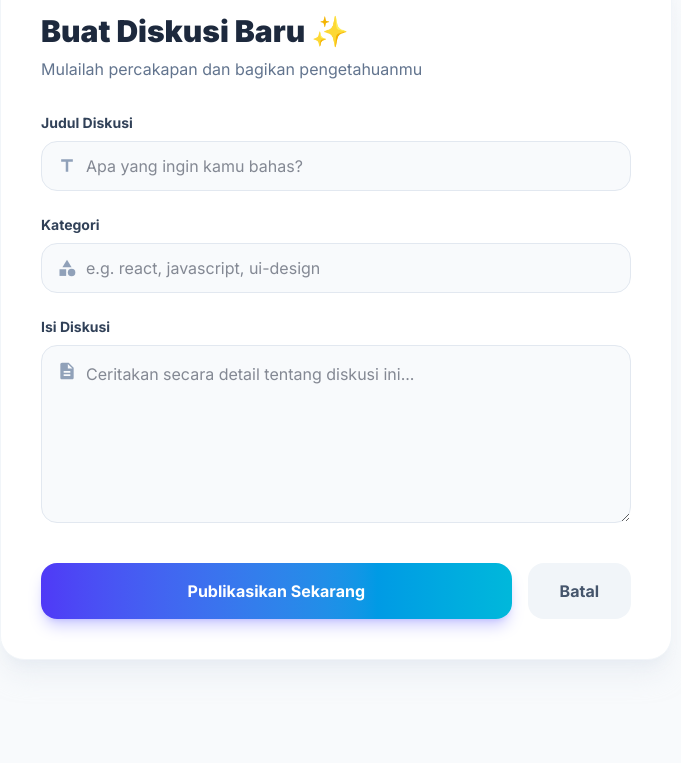
Test: ThreadInput component › should show inline error when fields are empty
Click the button "Publikasikan Sekarang".
click(276, 591)  # box [41,563,512,619]
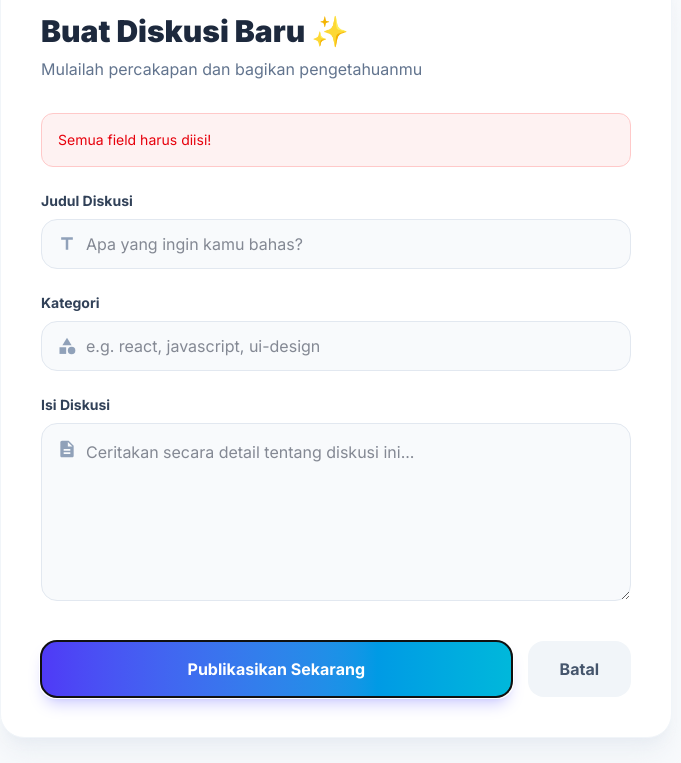
expect the text "Semua field harus diisi!" is shown: met, box [41,113,631,167]
